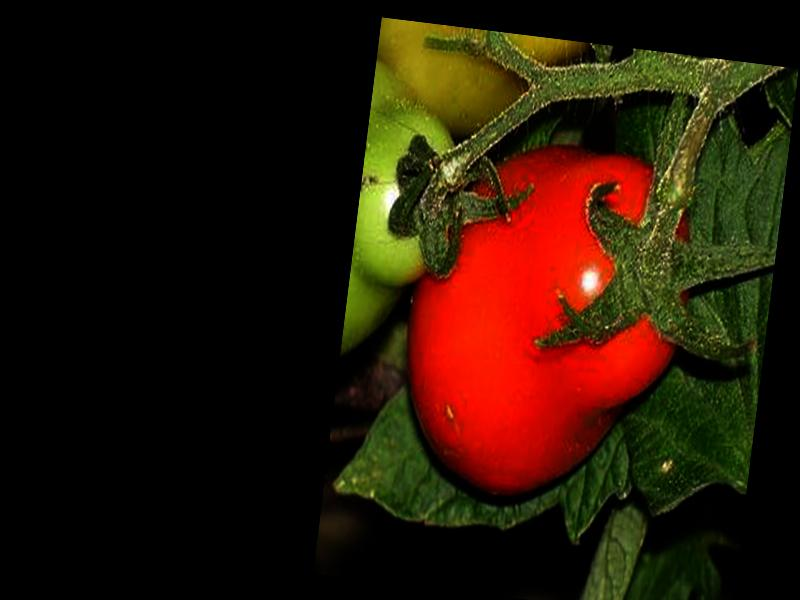Tomato: (389, 132, 703, 517)
